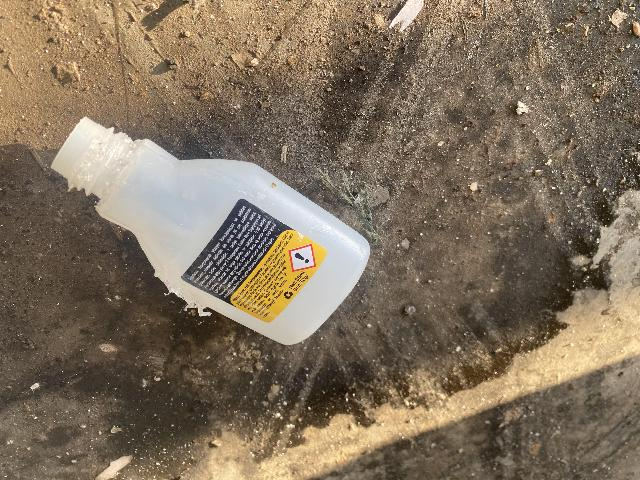Plastik: (52, 116, 370, 349)
